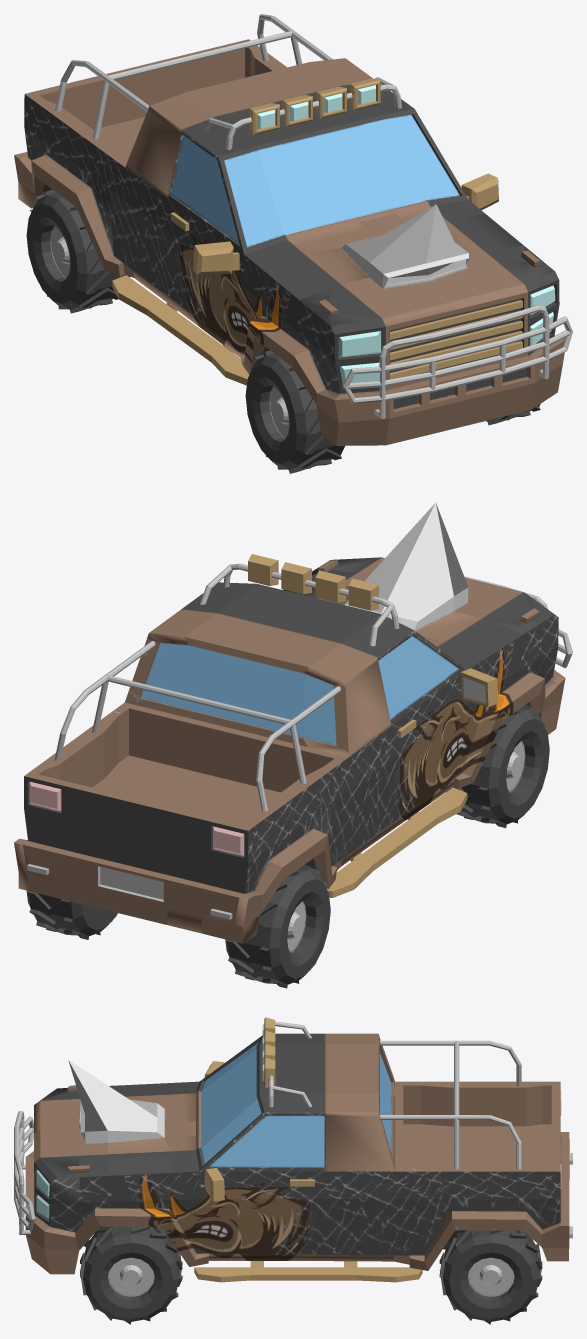
File: Rhino_Car.fbx
The picture shows the model from 3 angles, top to bottom: view 1: azimuth 30°, elevation 25°; view 2: azimuth 150°, elevation 25°; view 3: azimuth 270°, elevation 25°; orthographic projection. The views are drawn at different scales.
Visible parts, largest first — view 1: Jeep.1, wheel.1, wheel.2; view 2: Jeep.1, wheel.2, wheel.1; view 3: Jeep.1, wheel.1, wheel.2.
Part boxes in pixels (bbox=[...]): Jeep.1: bbox=[14, 14, 572, 445]; wheel.1: bbox=[245, 350, 540, 473]; wheel.2: bbox=[26, 190, 129, 313]; Jeep.1: bbox=[14, 502, 572, 943]; wheel.2: bbox=[26, 865, 330, 988]; wheel.1: bbox=[447, 705, 549, 827]; Jeep.1: bbox=[14, 1017, 572, 1282]; wheel.1: bbox=[80, 1226, 182, 1324]; wheel.2: bbox=[439, 1230, 542, 1324].
Size of the model in its own units: 193 by 173 by 375.
Materials: 1 (1 with a texture image).
